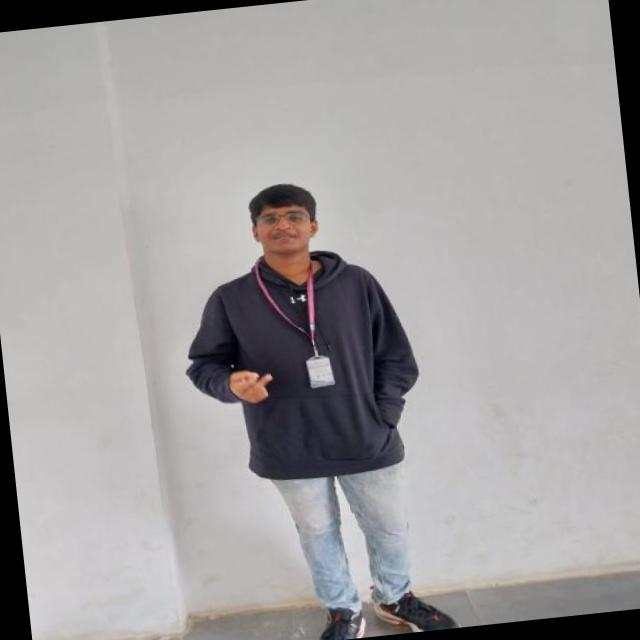id_card: (254, 249, 336, 395)
